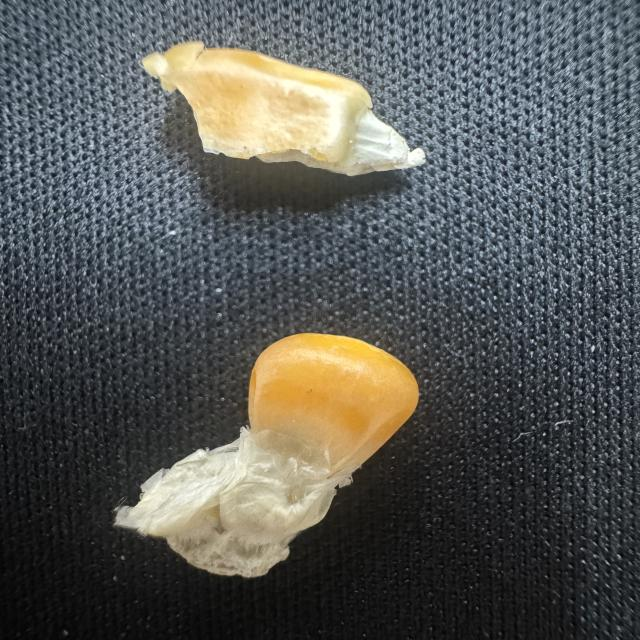Bad-Seed: (103, 330, 424, 584), (135, 34, 432, 184)
